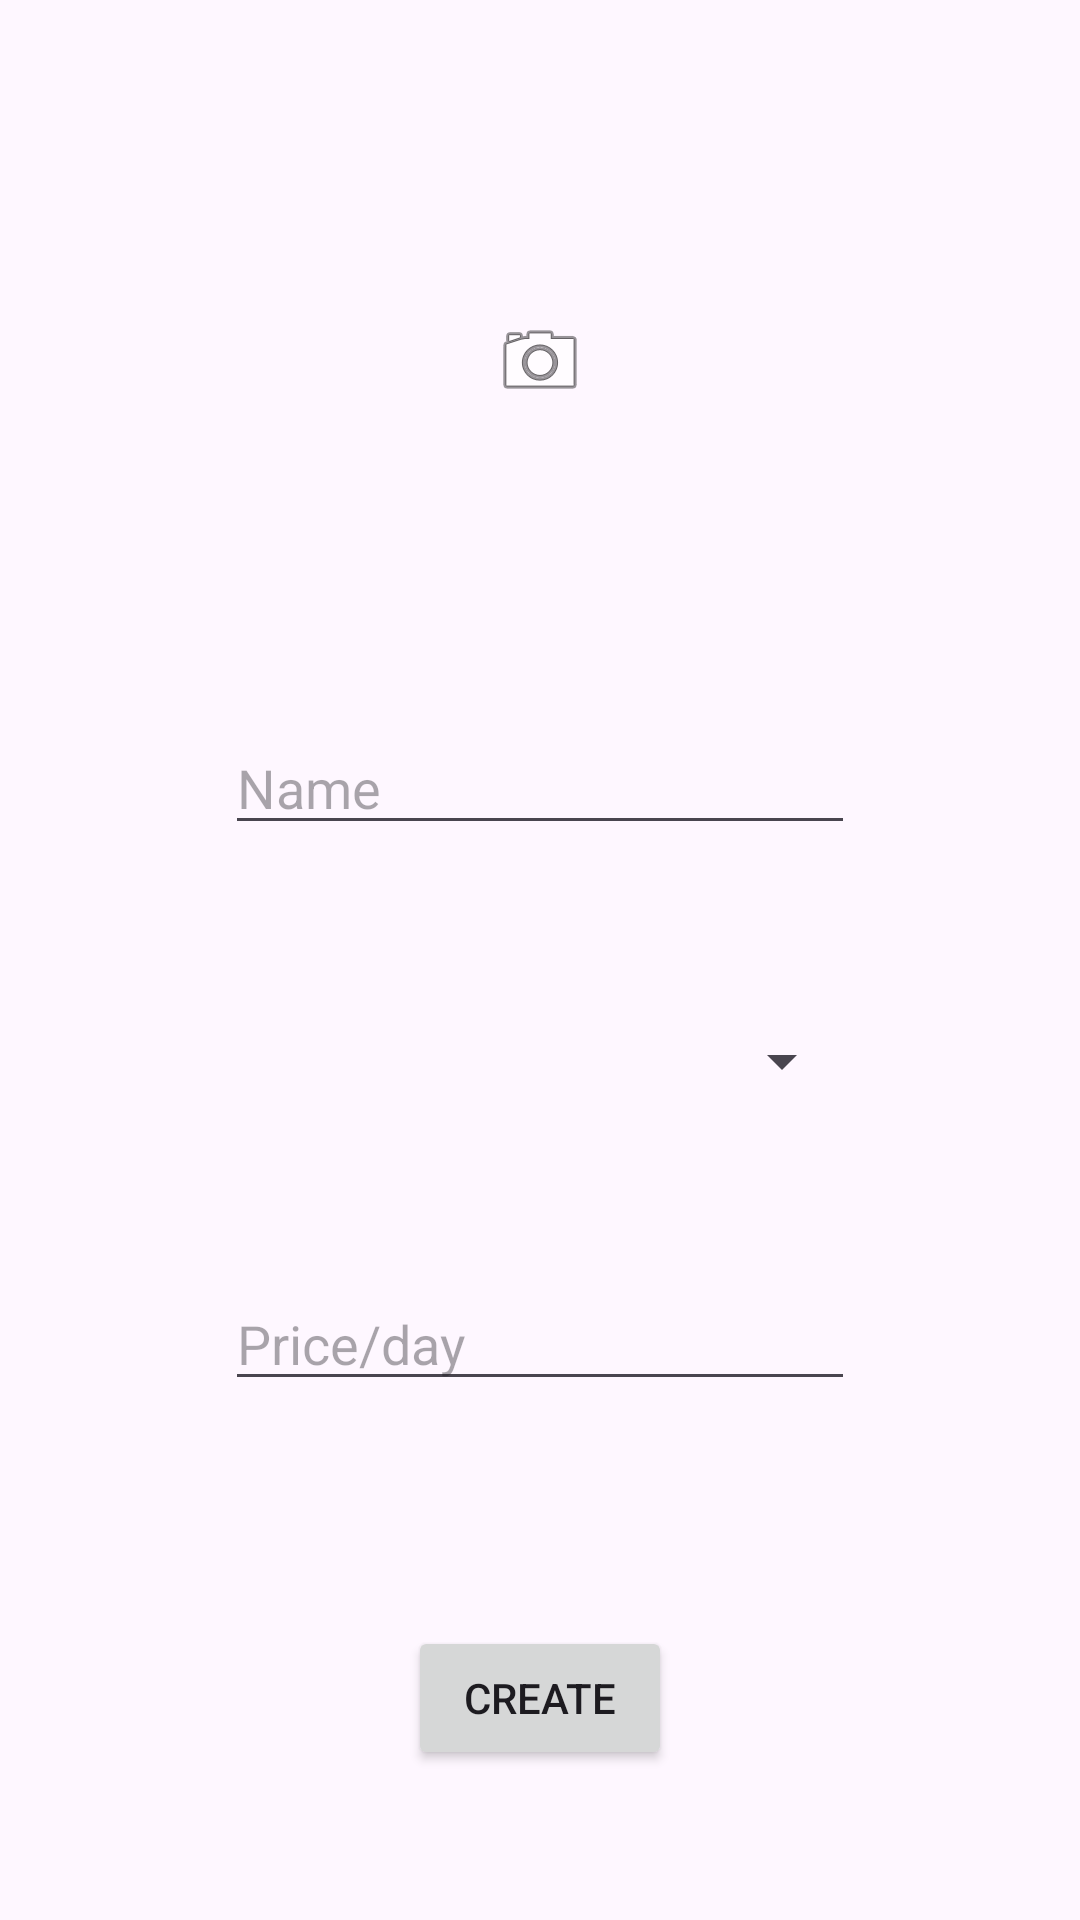

Where icons sit on this 1080w x 1920h app screen, as (x1, y1, x2, y2):
camera: (503, 330, 577, 389)
